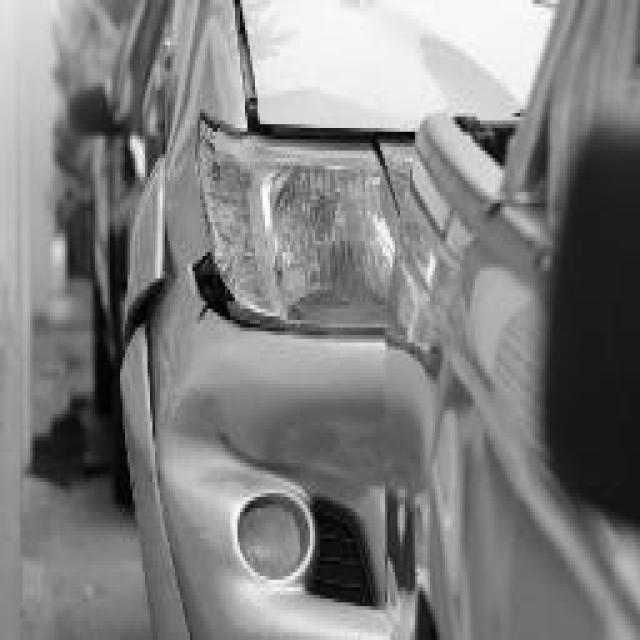Bumper: (135, 320, 382, 640)
Fender: (130, 64, 192, 294)
